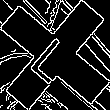L_NE: (27, 26, 83, 84)
